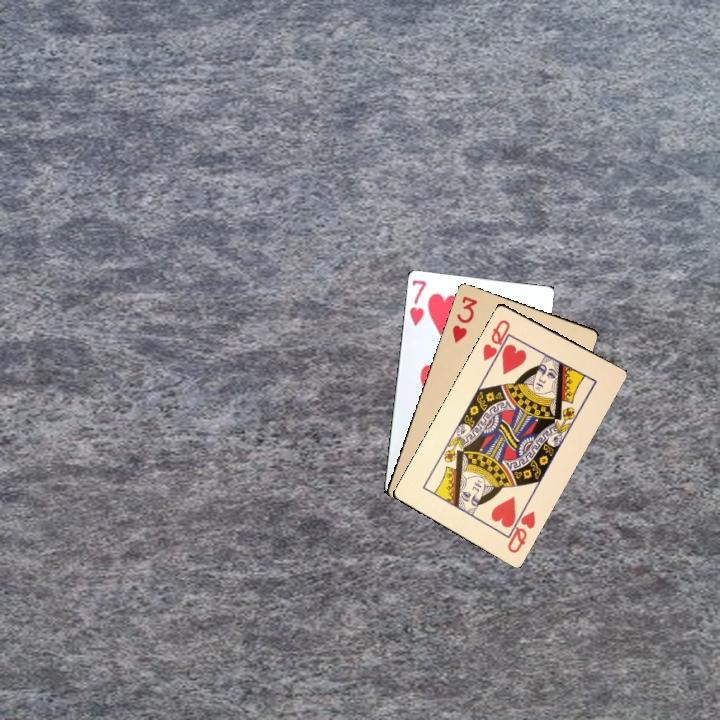3h: (448, 292, 480, 346)
7h: (405, 276, 429, 329)
Qh: (503, 501, 538, 556), (478, 316, 514, 367)
